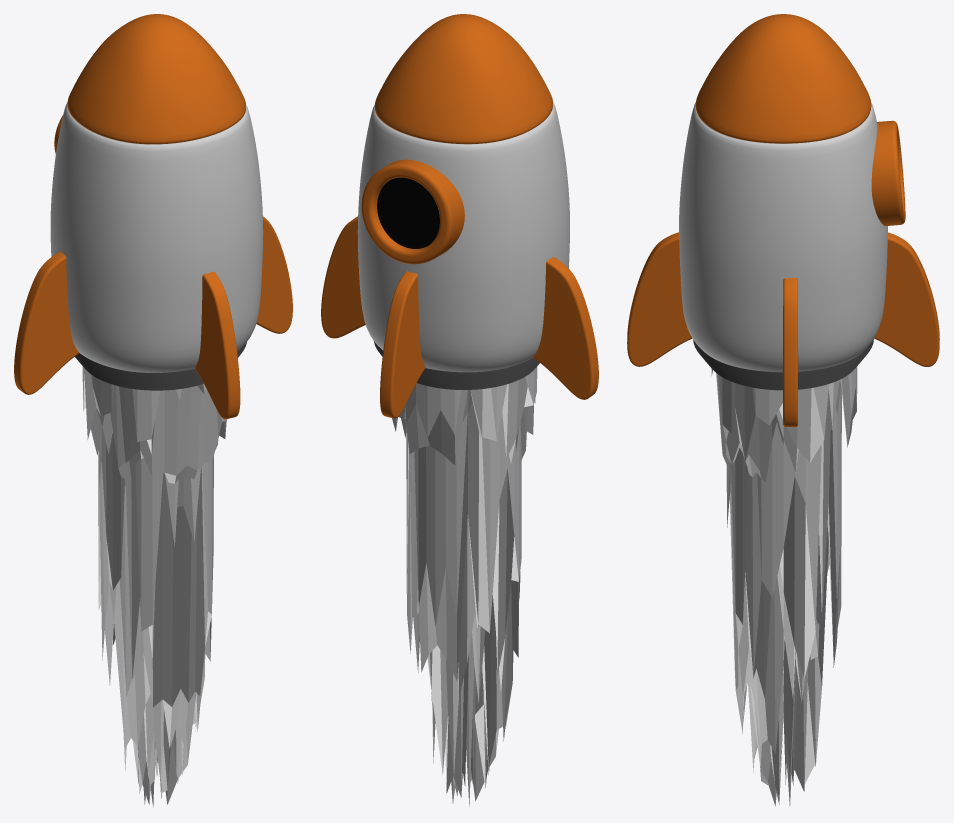
The model's file is Rocket.obj.
The picture shows the model from 3 angles, left to right: view 1: azimuth 30°, elevation 25°; view 2: azimuth 150°, elevation 25°; view 3: azimuth 270°, elevation 25°; orthographic projection.
Parts seen in each view (by area): view 1: 火箭本體, Sphere.002, Sphere, 火箭角1, 火箭角3, 火箭角2, 噴射口; view 2: 火箭本體, Sphere.002, 觀景窗, Sphere, 火箭角1, 火箭角, 火箭角2, 噴射口; view 3: 火箭本體, Sphere.002, Sphere, 火箭角, 火箭角3, 觀景窗, 噴射口, 火箭角2.
Boxes of the visible parts, x1,y1,x2,y2 form: 火箭本體: (50, 14, 263, 372); Sphere.002: (98, 427, 213, 807); Sphere: (82, 366, 227, 487); 火箭角1: (14, 251, 79, 394); 火箭角3: (195, 271, 240, 419); 火箭角2: (256, 216, 292, 333); 噴射口: (75, 342, 246, 390); 火箭本體: (357, 14, 569, 372); Sphere.002: (406, 402, 521, 806); 觀景窗: (361, 159, 464, 264); Sphere: (392, 367, 537, 465); 火箭角1: (533, 257, 598, 399); 火箭角: (380, 271, 425, 418); 火箭角2: (321, 216, 365, 338); 噴射口: (374, 341, 539, 389); 火箭本體: (679, 14, 887, 372); Sphere.002: (726, 385, 841, 806); Sphere: (711, 366, 857, 482); 火箭角: (874, 232, 939, 366); 火箭角3: (627, 232, 692, 366); 觀景窗: (871, 120, 905, 225); 噴射口: (693, 339, 873, 390); 火箭角2: (783, 277, 798, 426).
Bounding box in the file's own units: 2.89 × 7.97 × 2.87.
